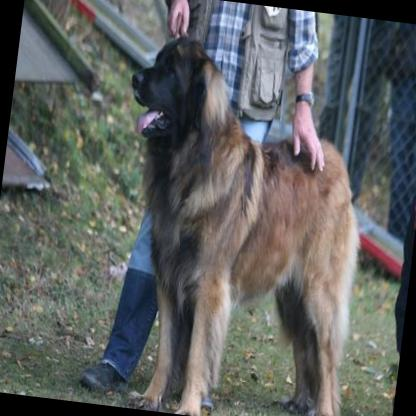Leonberg: (90, 26, 388, 416)
